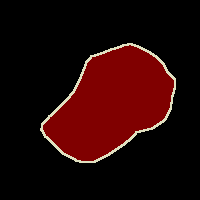hat: (41, 44, 175, 162)
